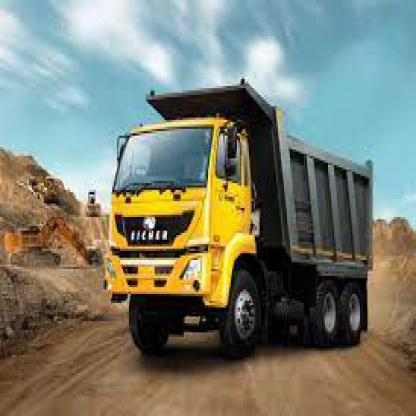tiper: (105, 84, 373, 364)
